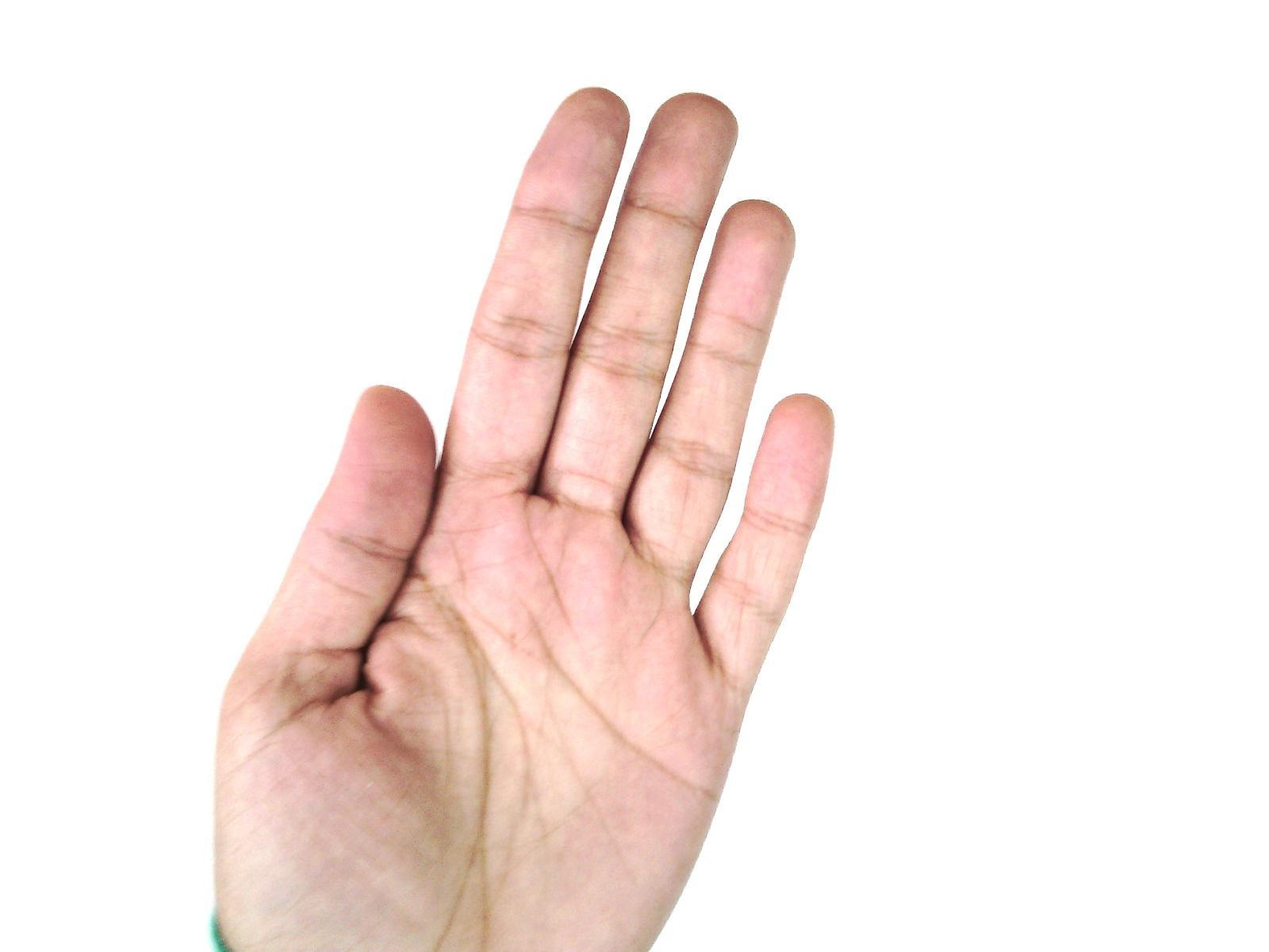open_palm: (209, 85, 838, 951)
